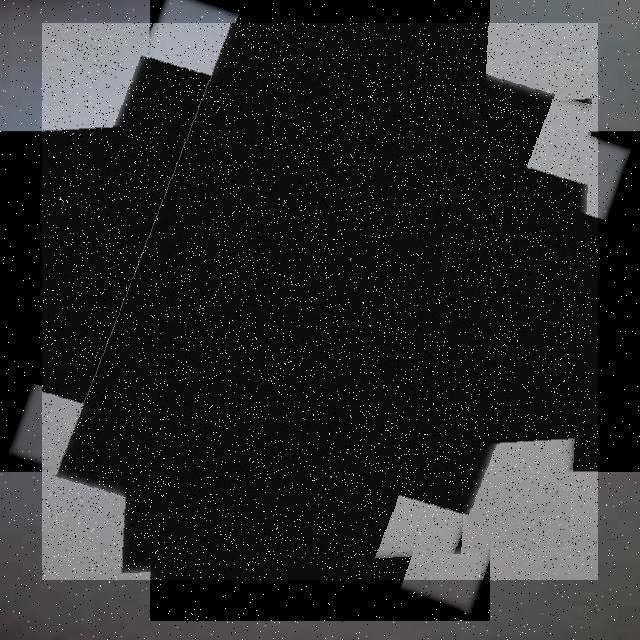lima puluh ribu rupiah: (42, 23, 598, 580)
